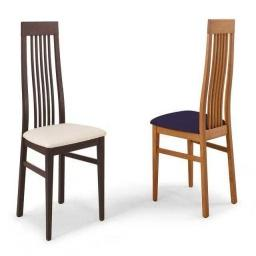Chair: (19, 21, 107, 242), (151, 21, 237, 217)
